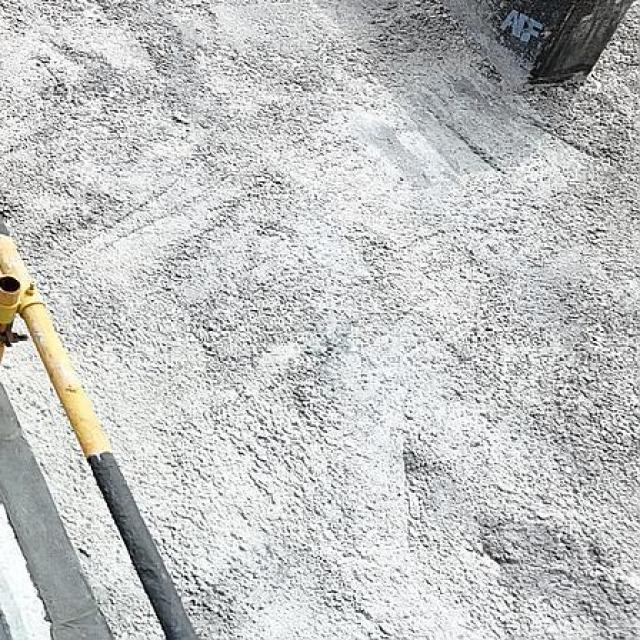edge_guardrail: (0, 214, 201, 639)
